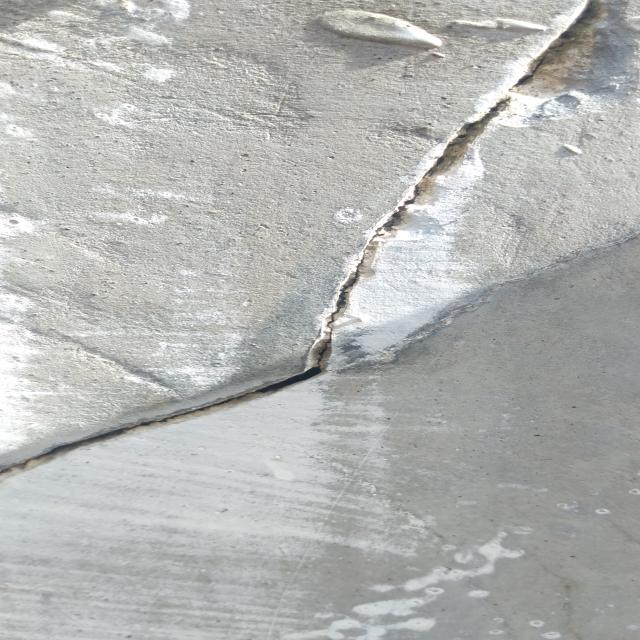Crack: (7, 1, 612, 489)
